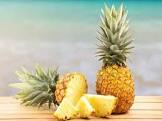Pineapple: (97, 2, 135, 114), (7, 65, 89, 112)
